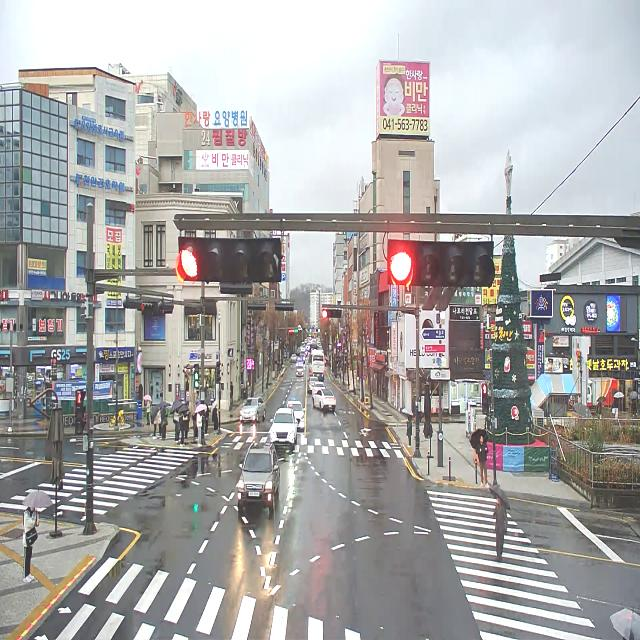Bus: (309, 349, 325, 382)
Car: (238, 443, 280, 511), (270, 408, 297, 445), (240, 397, 266, 422), (286, 398, 305, 428), (313, 390, 336, 410), (311, 382, 326, 399), (307, 377, 319, 393), (296, 365, 304, 376), (296, 360, 303, 368)
